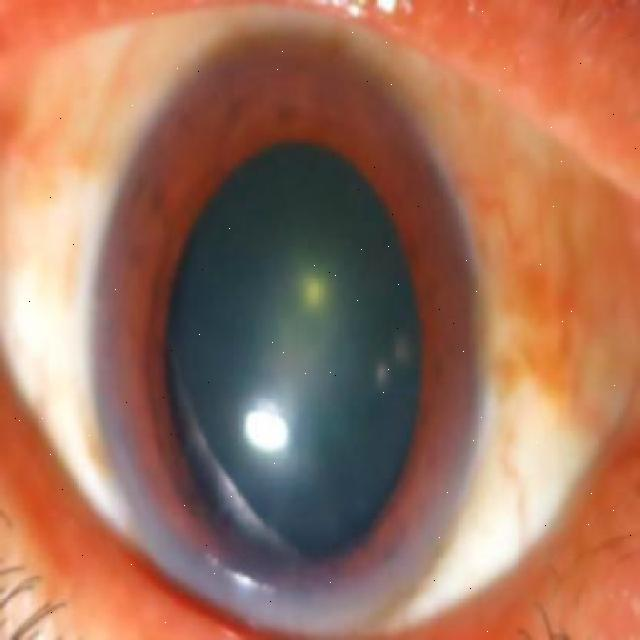Cataract: (87, 28, 494, 636)
